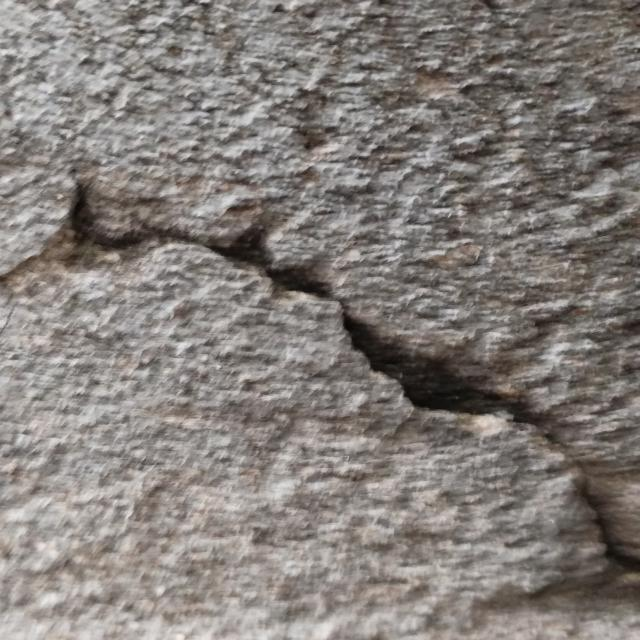diagonal crack: (70, 184, 639, 570)
